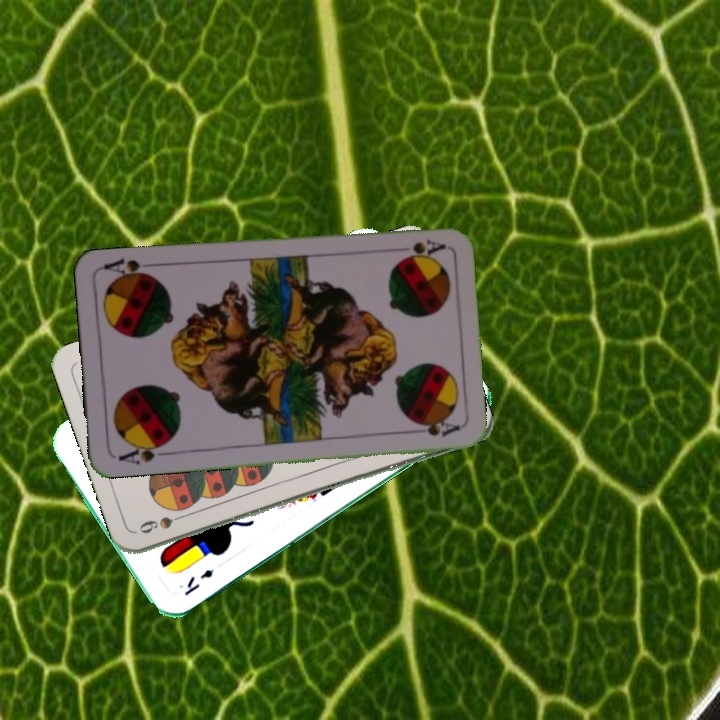EK: (180, 565, 216, 599)
S9: (136, 509, 192, 536)
SA: (114, 438, 172, 467), (396, 235, 448, 261)
